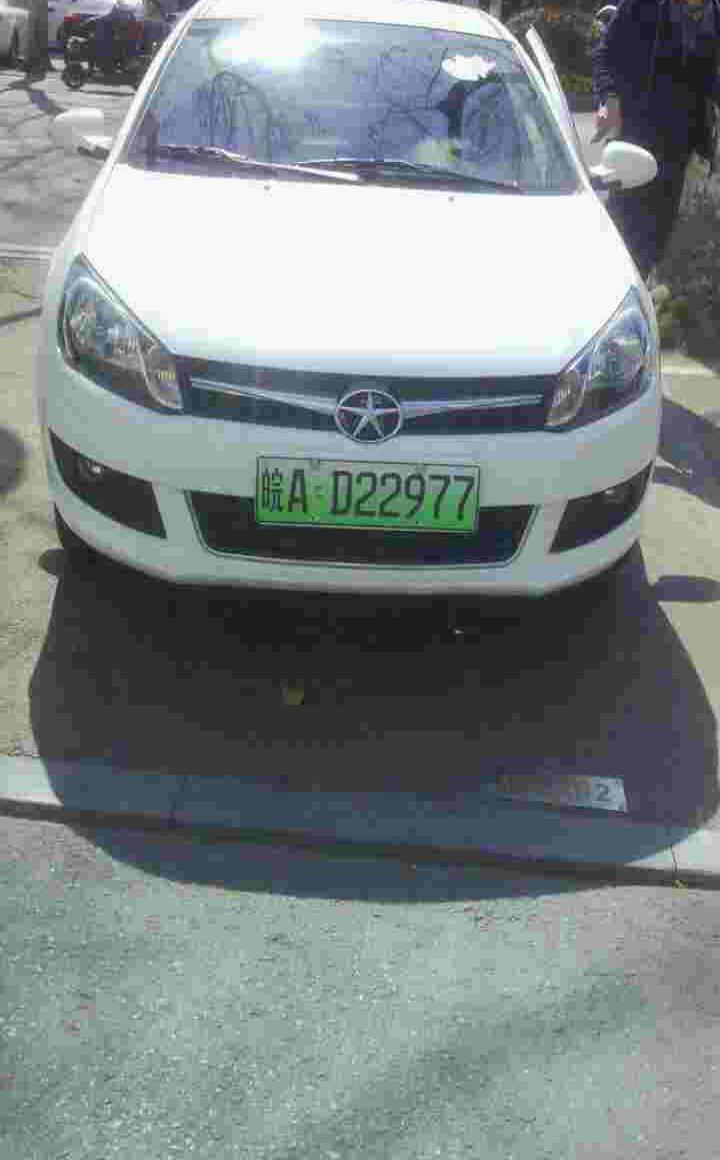car: (259, 455, 491, 535)
